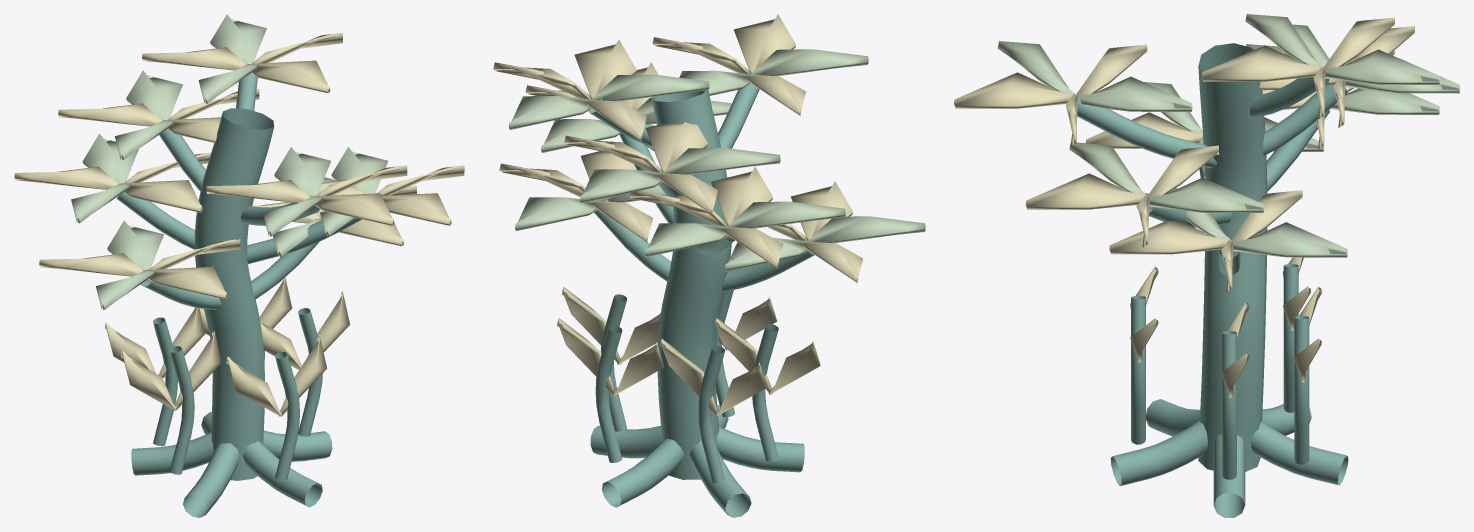
The model's file is bio_canopy_tree_07_far.glb.
3 views of the same model, side by side, from view 1: azimuth 30°, elevation 25°; view 2: azimuth 150°, elevation 25°; view 3: azimuth 270°, elevation 25° (orthographic). The views are drawn at different scales.
Parts seen in each view (by area): view 1: Buttressed trunk, Broad canopy leaf.010, Broad canopy leaf.020, Broad canopy leaf.015, Broad canopy leaf.005, Broad canopy leaf.030, Broad canopy leaf.025, Broad canopy leaf.016, Broad canopy leaf.011, Broad canopy leaf.031, Broad canopy leaf.021, Broad canopy leaf.006 (+12 smaller); view 2: Buttressed trunk, Broad canopy leaf.010, Broad canopy leaf.015, Broad canopy leaf.005, Broad canopy leaf.030, Broad canopy leaf.031, Broad canopy leaf.006, Broad canopy leaf.016, Broad canopy leaf.021, Broad canopy leaf.011, Broad canopy leaf, Broad canopy leaf.020 (+13 smaller); view 3: Buttressed trunk, Broad canopy leaf.015, Broad canopy leaf.025, Broad canopy leaf.010, Broad canopy leaf, Broad canopy leaf.016, Broad canopy leaf.026, Broad canopy leaf.011, Broad canopy leaf.001, Broad canopy leaf.006, Branching support.003, Branching support (+10 smaller).
Part boxes in pixels (left/top/right/bottom): Buttressed trunk: left=116, top=73, right=361, bottom=517; Broad canopy leaf.010: left=206, top=165, right=407, bottom=225; Broad canopy leaf.020: left=39, top=239, right=240, bottom=299; Broad canopy leaf.015: left=142, top=32, right=342, bottom=93; Broad canopy leaf.005: left=14, top=152, right=210, bottom=212; Broad canopy leaf.030: left=58, top=89, right=259, bottom=142; Broad canopy leaf.025: left=318, top=165, right=464, bottom=225; Broad canopy leaf.016: left=198, top=14, right=266, bottom=103; Broad canopy leaf.011: left=263, top=147, right=330, bottom=236; Broad canopy leaf.031: left=115, top=70, right=182, bottom=159; Broad canopy leaf.021: left=96, top=220, right=163, bottom=309; Broad canopy leaf.006: left=71, top=133, right=138, bottom=223; Buttressed trunk: left=588, top=73, right=814, bottom=517; Broad canopy leaf.010: left=652, top=14, right=806, bottom=115; Broad canopy leaf.015: left=493, top=39, right=646, bottom=141; Broad canopy leaf.005: left=629, top=166, right=783, bottom=268; Broad canopy leaf.030: left=564, top=122, right=717, bottom=214; Broad canopy leaf.031: left=580, top=147, right=780, bottom=203; Broad canopy leaf.006: left=645, top=201, right=845, bottom=257; Broad canopy leaf.016: left=509, top=74, right=709, bottom=130; Broad canopy leaf.021: left=725, top=216, right=925, bottom=271; Broad canopy leaf.011: left=679, top=49, right=868, bottom=95; Broad canopy leaf: left=499, top=151, right=652, bottom=242; Broad canopy leaf.020: left=768, top=181, right=863, bottom=283; Buttressed trunk: left=1077, top=43, right=1348, bottom=517; Broad canopy leaf.015: left=1201, top=17, right=1394, bottom=119; Broad canopy leaf.025: left=1025, top=145, right=1218, bottom=247; Broad canopy leaf.010: left=954, top=44, right=1147, bottom=146; Broad canopy leaf: left=1109, top=190, right=1302, bottom=291; Broad canopy leaf.016: left=1245, top=14, right=1439, bottom=84; Broad canopy leaf.026: left=1069, top=142, right=1263, bottom=212; Broad canopy leaf.011: left=997, top=41, right=1192, bottom=111; Broad canopy leaf.001: left=1169, top=188, right=1347, bottom=257; Broad canopy leaf.006: left=1246, top=44, right=1439, bottom=114; Branching support.003: left=1294, top=316, right=1309, bottom=464; Branching support: left=1222, top=331, right=1236, bottom=479.
Size of the model in its own units: 2.97 by 2.99 by 3.05.
